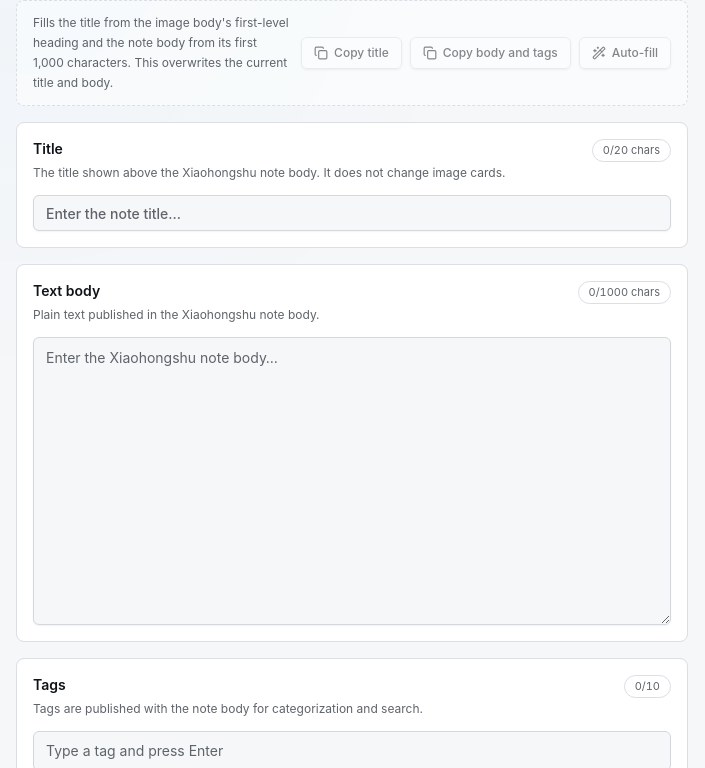
标签输入框 › 宽限期过后的回车照常加标签
In the field labelled "Type a tag and press Enter": x=352, y=751 [46,741,658,761], type "排版"
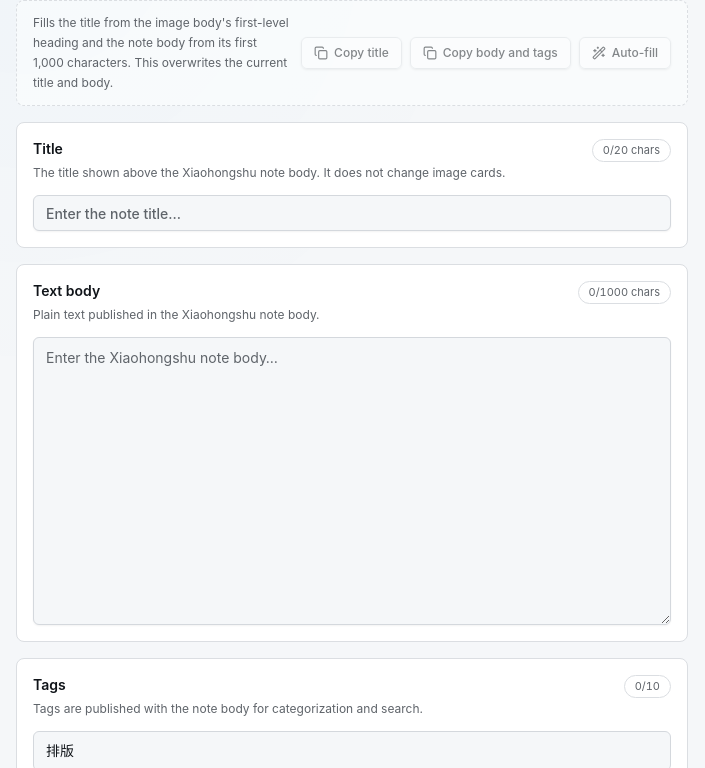
Press Enter in the field named "Tags", box [46,741,658,761]
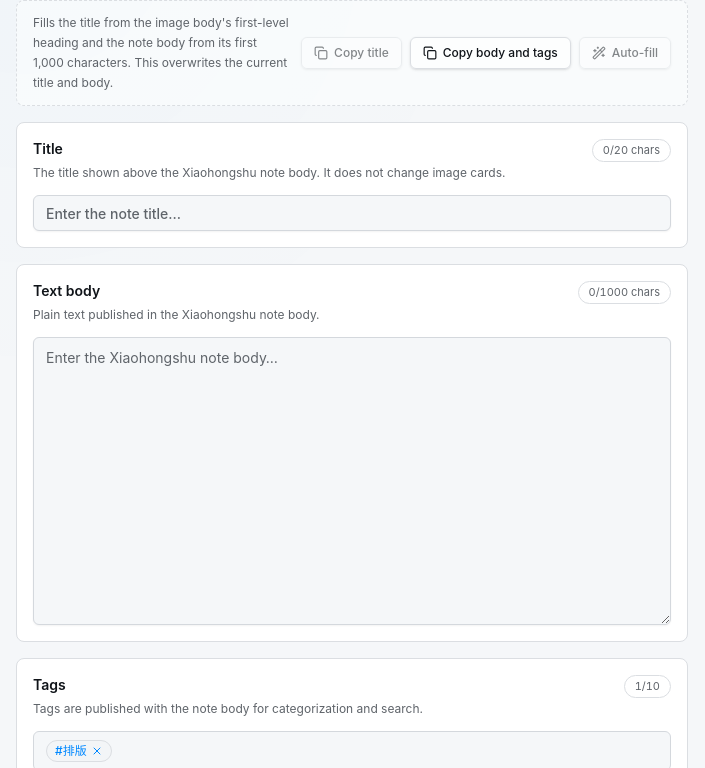
Expected: the button "#排版" is shown, [46,740,112,762]
